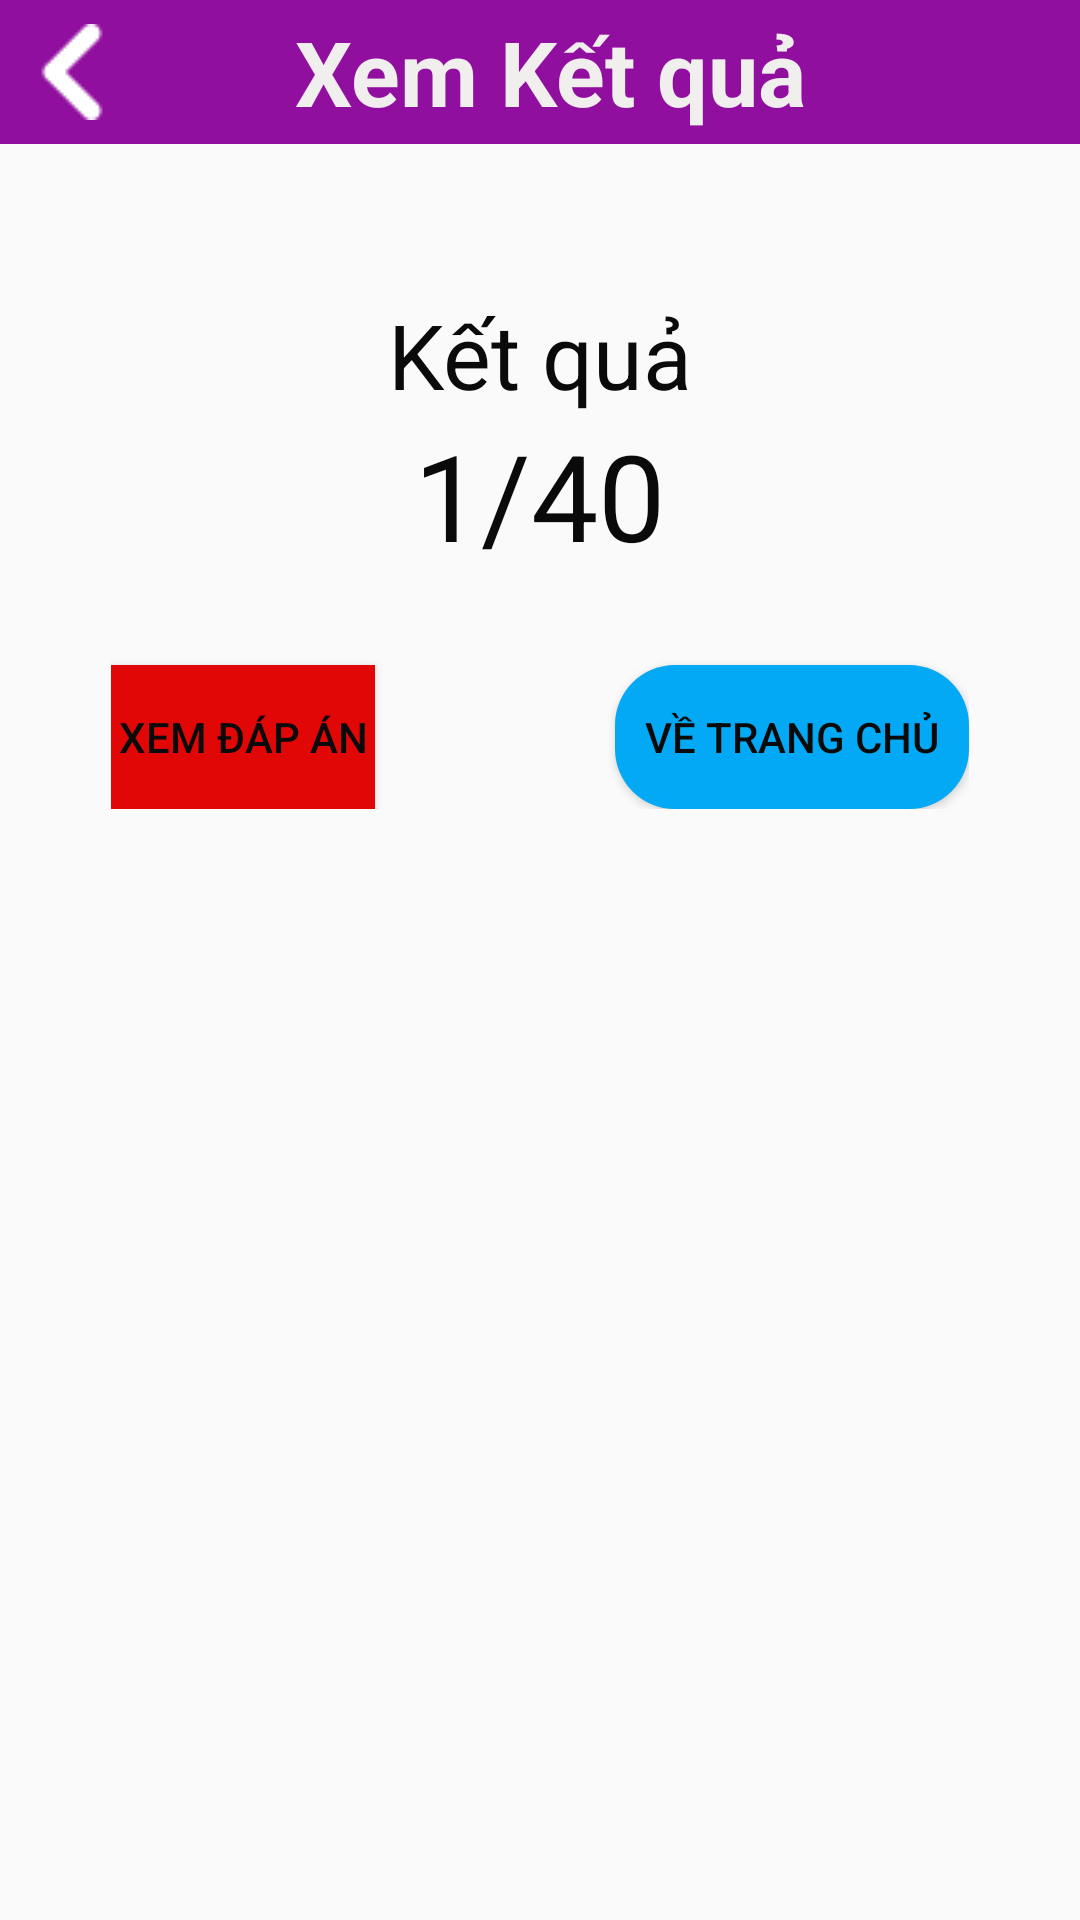

Icons on this 1080w x 1920h Android screen, each with the point to tap as (x=x, y=y):
backk trang: (x=72, y=72)
